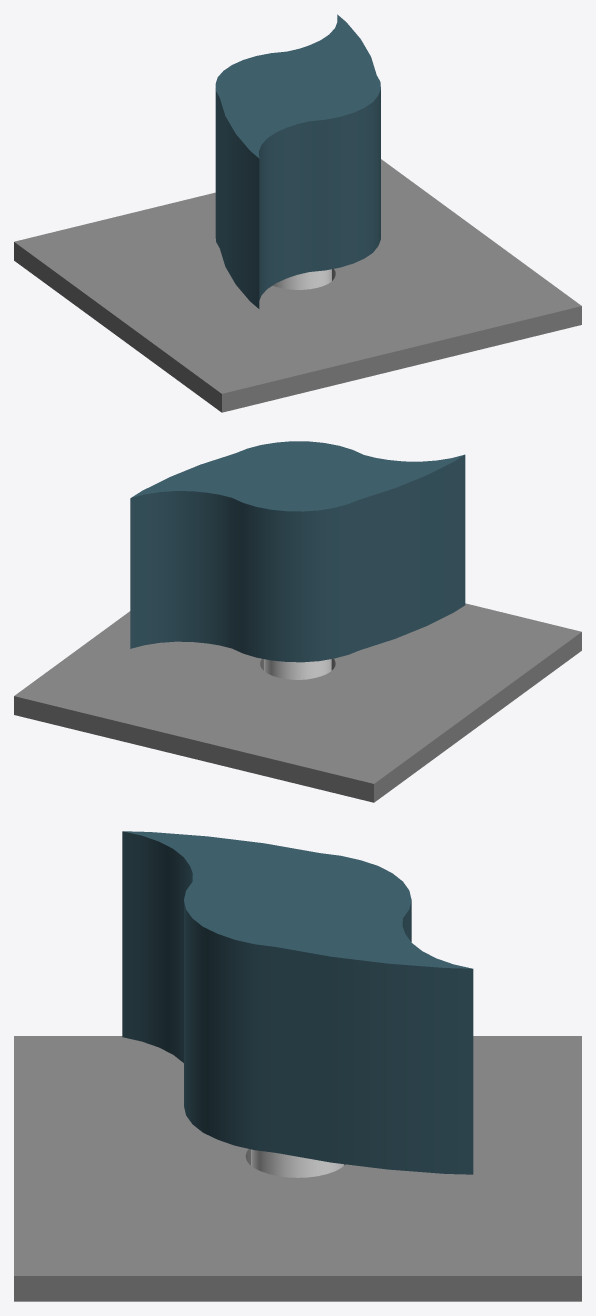
Rendered from bouton FlipFlop 2 v2.glb.
3 renders of one model, top to bottom at view 1: azimuth 30°, elevation 25°; view 2: azimuth 150°, elevation 25°; view 3: azimuth 270°, elevation 25°, orthographic. The views are drawn at different scales.
Visible parts, largest first — view 1: Base FlipFlop 2, FlipFlop 2; view 2: FlipFlop 2, Base FlipFlop 2; view 3: Base FlipFlop 2, FlipFlop 2.
Part boxes in pixels (left/top/right/bottom): Base FlipFlop 2: left=14, top=159, right=581, bottom=412; FlipFlop 2: left=215, top=14, right=380, bottom=308; FlipFlop 2: left=130, top=441, right=465, bottom=679; Base FlipFlop 2: left=14, top=603, right=581, bottom=802; Base FlipFlop 2: left=14, top=1036, right=581, bottom=1301; FlipFlop 2: left=122, top=831, right=473, bottom=1177.
Bounding box in the file's own units: 0.5 × 0.2738 × 0.5.
